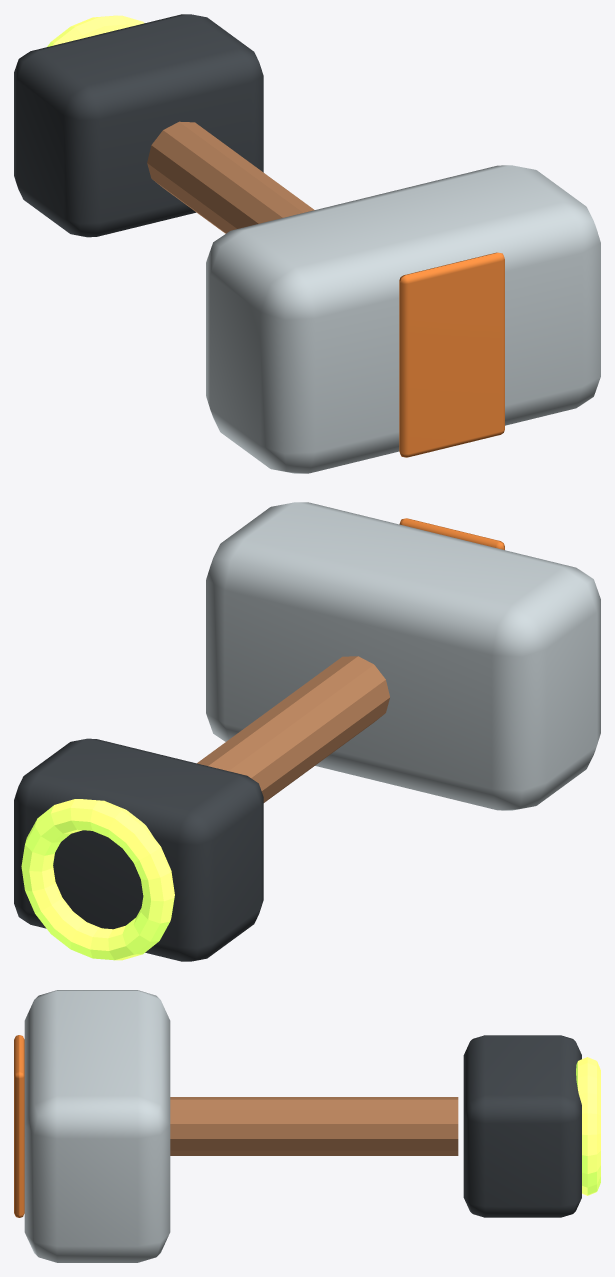
Rendered from module-hammer.glb.
3 views of the same model, one above another, from view 1: azimuth 30°, elevation 25°; view 2: azimuth 150°, elevation 25°; view 3: azimuth 270°, elevation 25° (orthographic). The views are drawn at different scales.
Parts seen in each view (by area): view 1: Mallet head, Universal connector.001, Hammer warning stripe, Hammer handle, Standard attachment ring.001; view 2: Mallet head, Universal connector.001, Standard attachment ring.001, Hammer handle, Hammer warning stripe; view 3: Mallet head, Universal connector.001, Hammer handle, Standard attachment ring.001, Hammer warning stripe.
Boxes of the visible parts, <box> form: Mallet head: <box>206,165,600,473</box>; Universal connector.001: <box>14,14,263,237</box>; Hammer warning stripe: <box>399,252,504,457</box>; Hammer handle: <box>147,121,314,233</box>; Standard attachment ring.001: <box>47,15,144,46</box>; Mallet head: <box>206,502,600,810</box>; Universal connector.001: <box>14,738,263,961</box>; Standard attachment ring.001: <box>21,799,174,960</box>; Hammer handle: <box>197,656,389,802</box>; Hammer warning stripe: <box>399,518,504,549</box>; Mallet head: <box>24,990,170,1262</box>; Universal connector.001: <box>463,1035,581,1217</box>; Hammer handle: <box>170,1097,458,1155</box>; Standard attachment ring.001: <box>576,1057,600,1195</box>; Hammer warning stripe: <box>14,1035,24,1217</box>.
Bounding box in the file's own units: 0.58 × 0.34 × 1.09.
